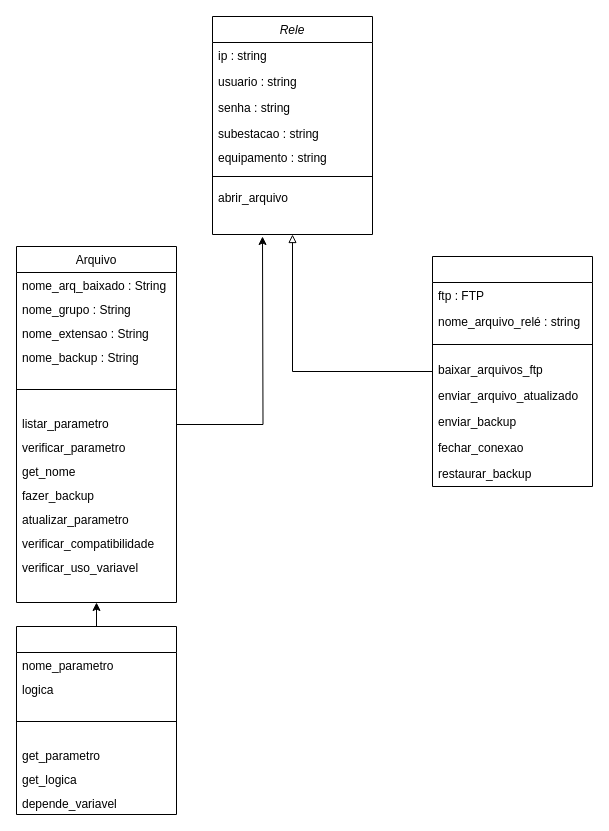
Image size: 609x831. Some labels were removed from this diagram. The shapes that lost their labels are listed below. From the top down, each one's box as (x1, y1, x2, y2) in pixels, then its label:
(432, 256, 592, 486): ReleFTP
(16, 626, 176, 814): Parâmetro
